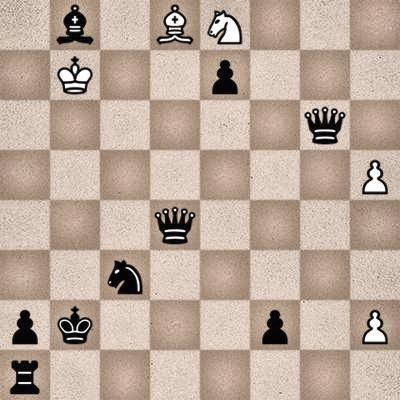black-bishop: (50, 0, 100, 50)
black-king: (50, 300, 100, 350)
black-knight: (100, 250, 150, 300)
black-pawn: (200, 50, 250, 100), (0, 300, 50, 350), (250, 300, 300, 350)
black-queen: (300, 100, 350, 150), (150, 200, 200, 250)
black-rook: (0, 350, 50, 400)
white-bishop: (150, 0, 200, 50)
white-king: (50, 50, 100, 100)
white-knight: (200, 0, 250, 50)
white-pawn: (350, 150, 400, 200), (350, 300, 400, 350)
